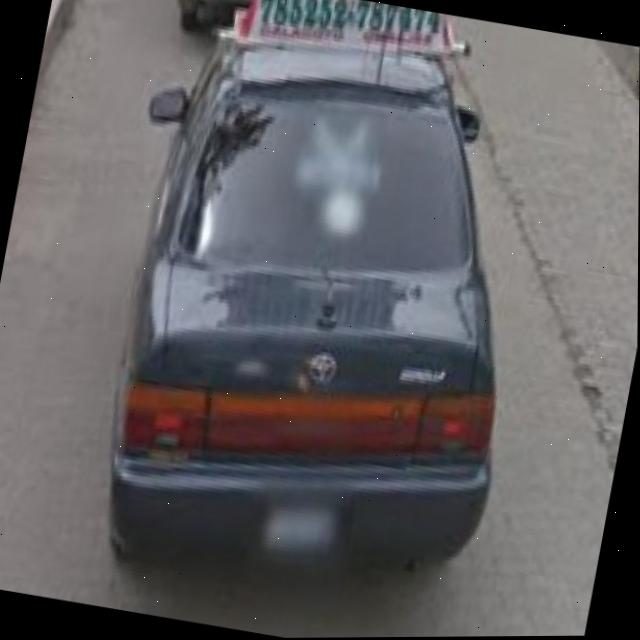vehicle: (62, 0, 576, 640)
